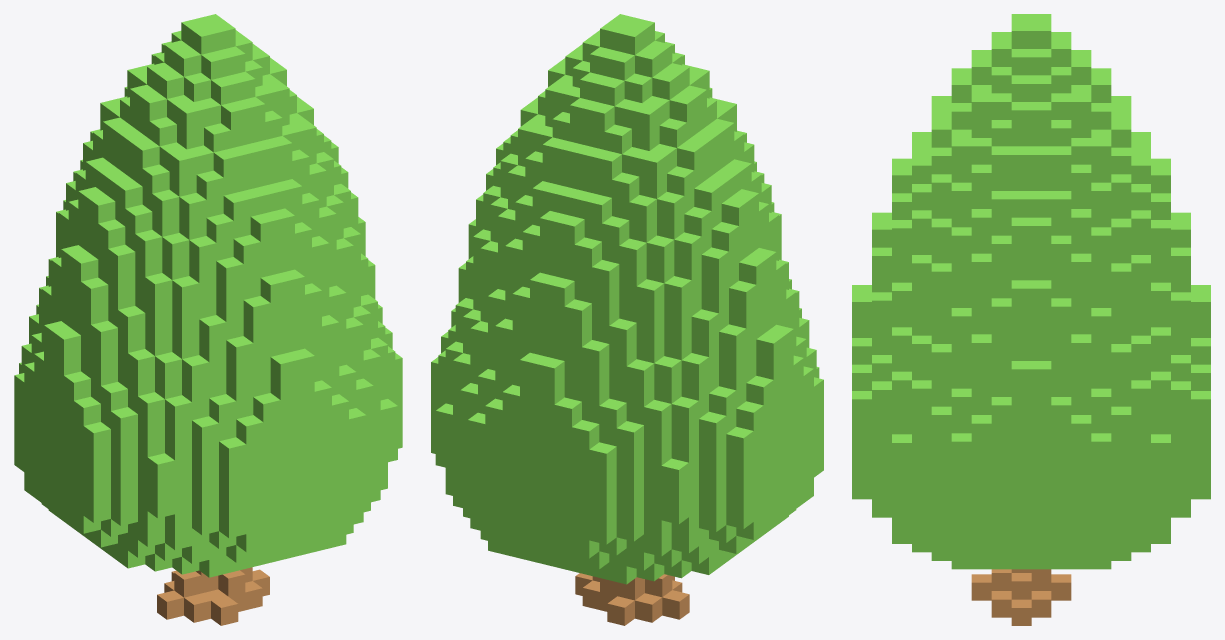
Rendered from Tree_4.obj.
The picture shows the model from 3 angles, left to right: view 1: azimuth 30°, elevation 25°; view 2: azimuth 150°, elevation 25°; view 3: azimuth 270°, elevation 25°; orthographic projection.
Size of the model in its own units: 1.8 by 3.2 by 1.8.
1 material, 1 textured.
